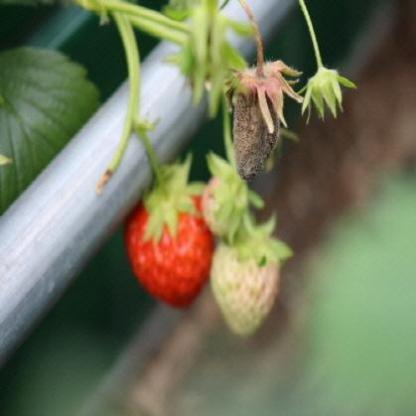Strawberry_Gray_Mold: (222, 42, 305, 183)
